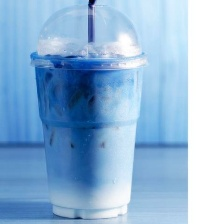drinking_straw: (80, 0, 103, 58)
glass: (24, 3, 154, 221)
